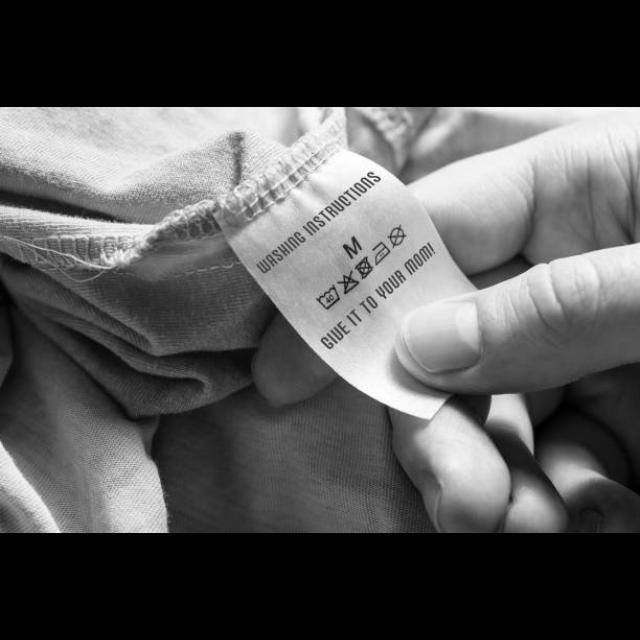40C: (314, 282, 344, 314)
DN_bleach: (336, 268, 362, 296)
DN_dry_clean: (385, 223, 409, 250)
DN_tumble_dry: (352, 254, 376, 282)
iron_medium: (371, 240, 392, 268)
